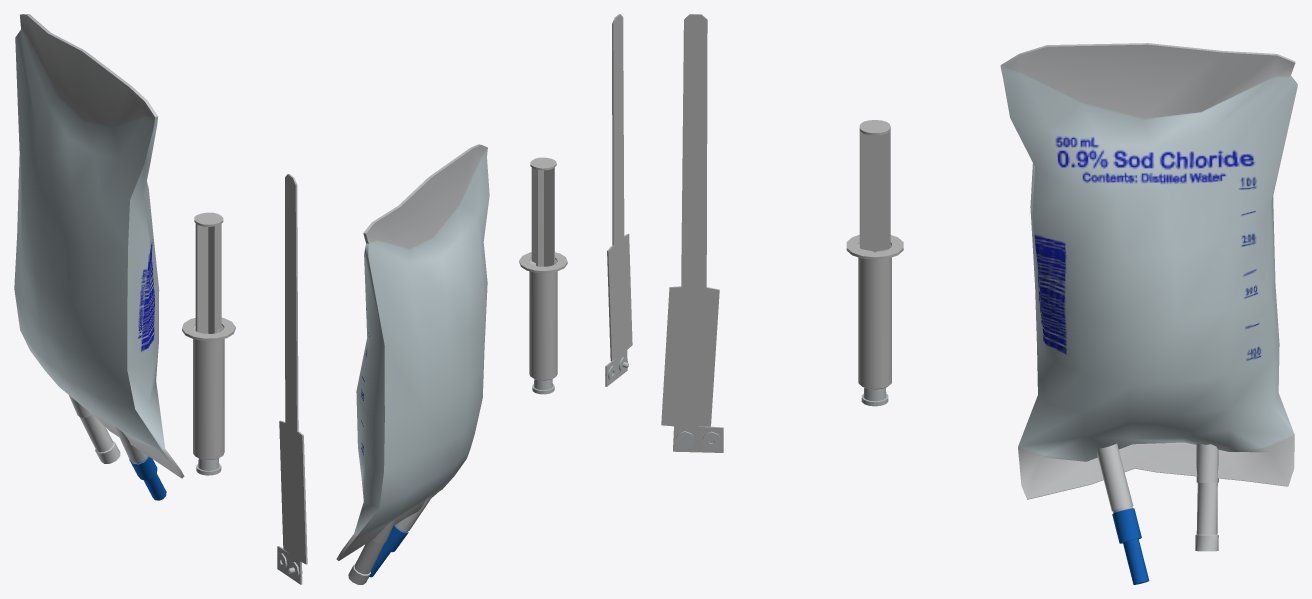
File: ivBag.obj
3 renders of one model, left to right at view 1: azimuth 30°, elevation 25°; view 2: azimuth 150°, elevation 25°; view 3: azimuth 270°, elevation 25°, orthographic. The views are drawn at different scales.
Parts seen in each view (by area): view 1: WaterBag_All_Tools_0, Wristband_All_Tools_0, Tube_All_Tools_0, Pusher_All_Tools_0; view 2: WaterBag_All_Tools_0, Wristband_All_Tools_0, Tube_All_Tools_0, Pusher_All_Tools_0; view 3: WaterBag_All_Tools_0, Wristband_All_Tools_0, Tube_All_Tools_0, Pusher_All_Tools_0.
Boxes of the visible parts, x1,y1,x2,y2 form: WaterBag_All_Tools_0: (14,14,184,500); Wristband_All_Tools_0: (277,174,307,584); Tube_All_Tools_0: (182,317,235,475); Pusher_All_Tools_0: (194,212,223,333); WaterBag_All_Tools_0: (336,144,489,584); Wristband_All_Tools_0: (605,14,632,386); Tube_All_Tools_0: (519,252,567,394); Pusher_All_Tools_0: (530,157,556,266); WaterBag_All_Tools_0: (1000,43,1297,584); Wristband_All_Tools_0: (661,14,723,452); Tube_All_Tools_0: (846,235,903,406); Pusher_All_Tools_0: (859,120,890,252).
Bounding box in the file's own units: 0.116 × 0.4859 × 0.5252.
